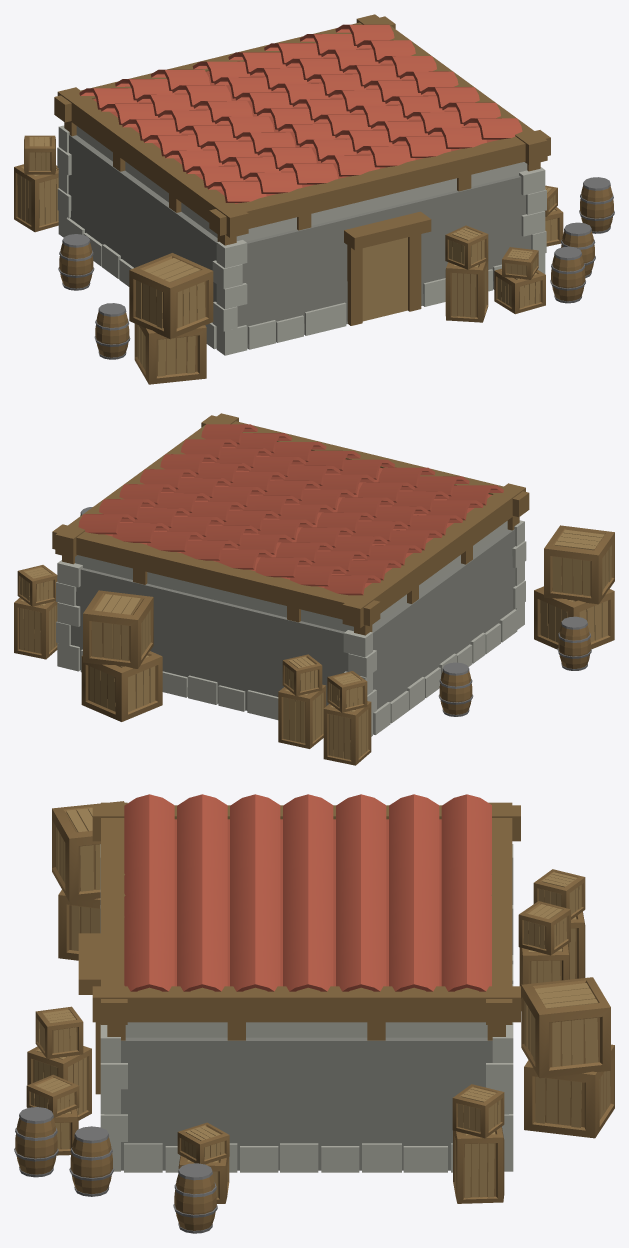
File: Storage_SecondAge_Level1.glb
3 views of the same model, one above another, from view 1: azimuth 30°, elevation 25°; view 2: azimuth 150°, elevation 25°; view 3: azimuth 270°, elevation 25° (orthographic). The views are drawn at different scales.
Visible parts, largest first — view 1: Storage_SecondAge_Level1; view 2: Storage_SecondAge_Level1; view 3: Storage_SecondAge_Level1.
Boxes of the visible parts, x1,y1,x2,y2 form: Storage_SecondAge_Level1: (14,14,614,384); Storage_SecondAge_Level1: (14,413,614,765); Storage_SecondAge_Level1: (14,794,614,1233).
Size of the model in its own units: 1.72 by 0.5016 by 1.38.
